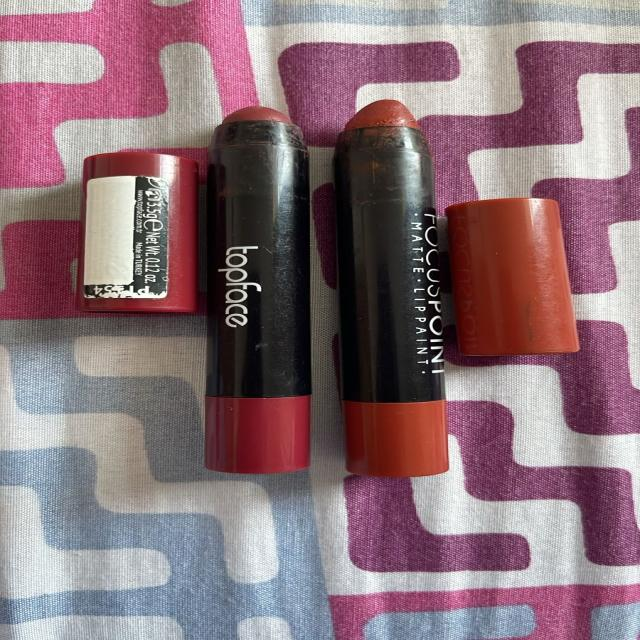lip stick: (318, 79, 468, 496), (186, 87, 333, 490)
